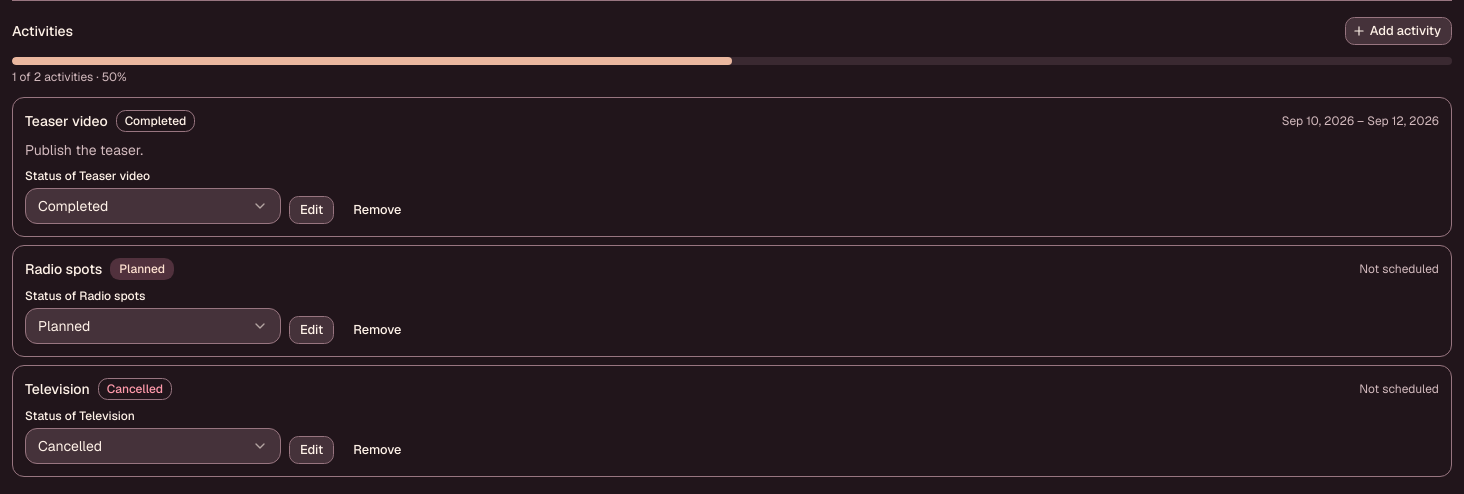
Test: CampaignActivities › removing › backs out of a confirmation without deleting
Expected: the text "Teaser video" is shown, [25,111,108,131]
Click the button with aria-label "Remove Radio spots" at (377, 330), box [342,316,412,344]
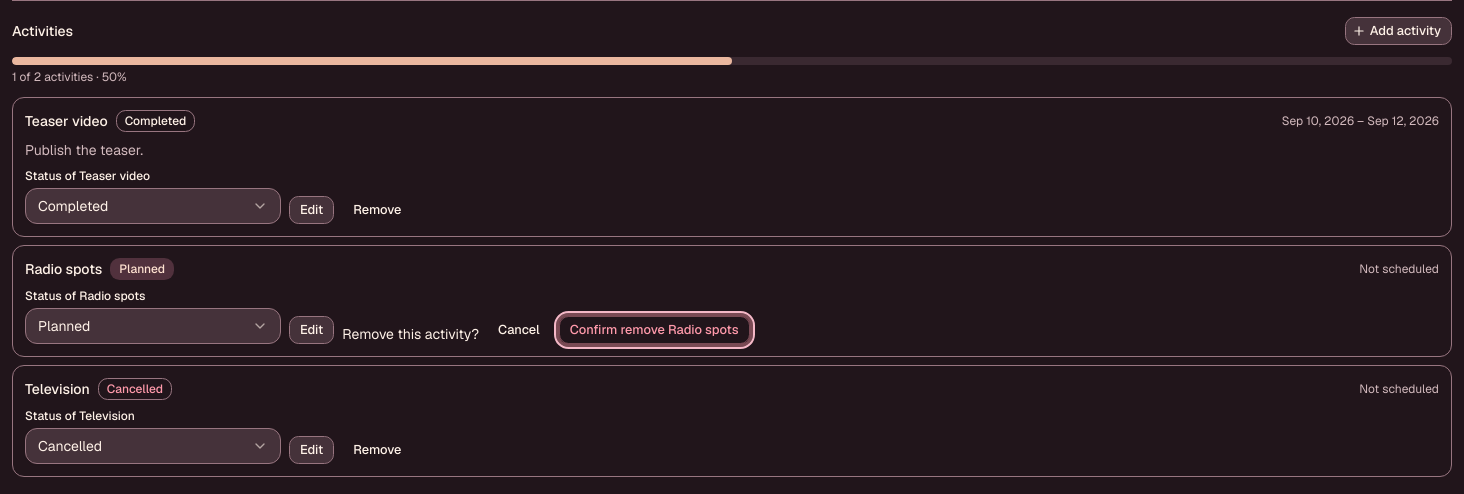
Click the button "Cancel" at (519, 330), box [487,316,551,344]
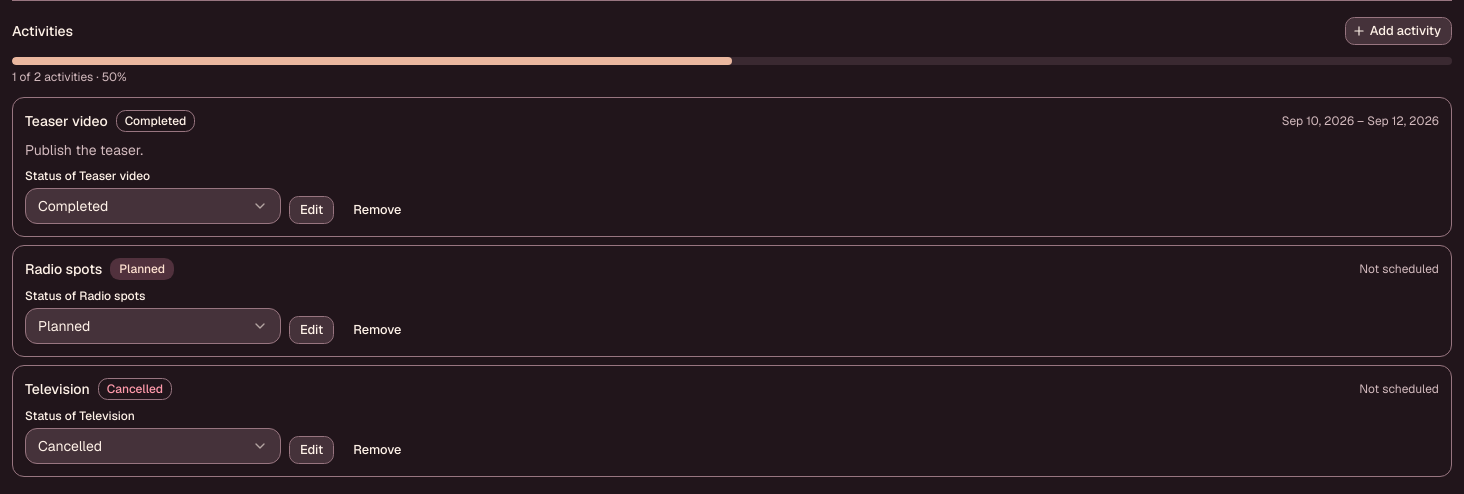
Expected: the text "Radio spots" is shown, [25,259,102,279]
Expected: the text "Remove this activity?" is gone
